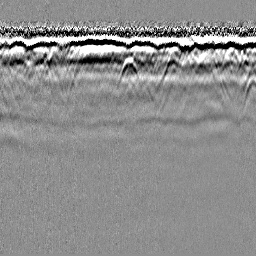cavity: (116, 54, 141, 84)
